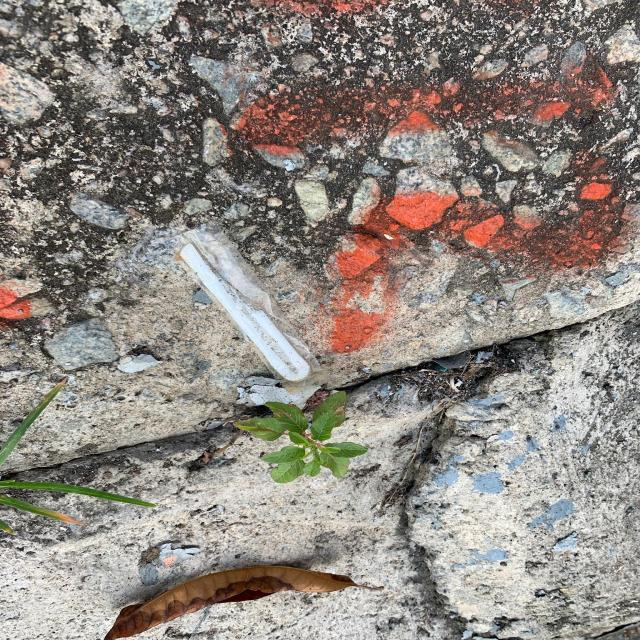litter: (173, 240, 312, 381)
